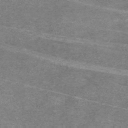finishing roll printing: (0, 44, 128, 76), (0, 26, 128, 48), (22, 84, 128, 110), (66, 0, 128, 14)
